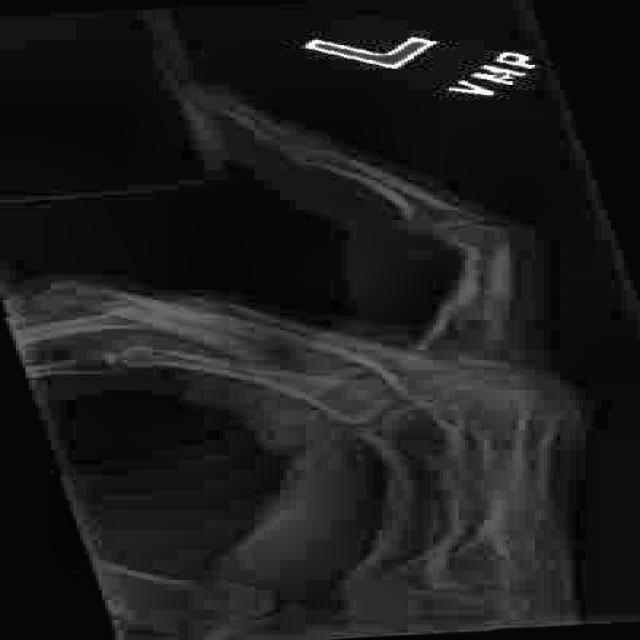fingers positive: (406, 272, 539, 371)
